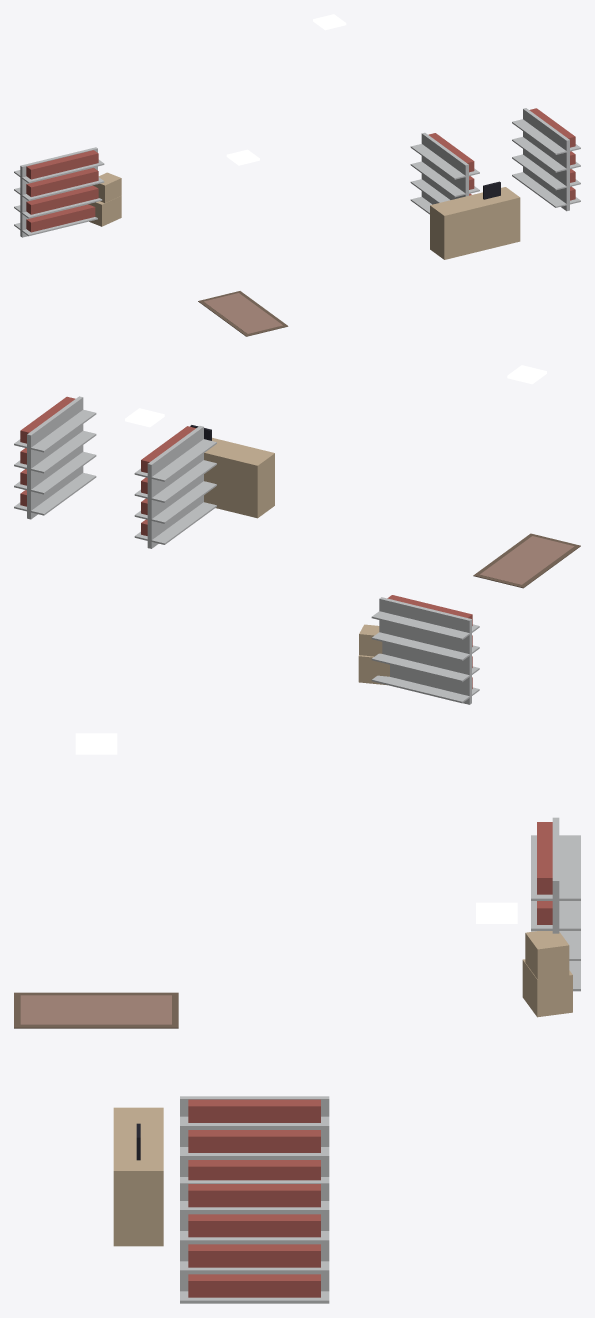
File: fine-s0.glb
3 renders of one model, top to bottom at view 1: azimuth 30°, elevation 25°; view 2: azimuth 150°, elevation 25°; view 3: azimuth 270°, elevation 25°, orthographic. The views are drawn at different scales.
Parts seen in each view (by area): view 1: shelving.000, shop-counter.000, shelf.001, shelf.000, soft-s0, cardboard-box.000; view 2: shelving.000, shelf.001, shelf.000, shop-counter.000, soft-s0, cardboard-box.000, ceiling-lamp.000, ceiling-lamp.001; view 3: shelf.001, shelf.000, shop-counter.000, soft-s0, shelving.000, cardboard-box.000, ceiling-lamp.000, ceiling-lamp.001.
Part boxes in pixels (x1,y1,x2,y2): shelving.000: (14,147,104,237); shop-counter.000: (430,181,520,259); shelf.001: (512,108,580,211); shelf.000: (410,132,479,214); soft-s0: (198,291,288,336); cardboard-box.000: (88,172,121,226); shelving.000: (371,595,479,704); shelf.001: (14,396,96,519); shelf.000: (134,426,216,548); shop-counter.000: (190,425,274,518); soft-s0: (473,533,580,588); cardboard-box.000: (358,624,389,685); ceiling-lamp.000: (507,365,546,384); ceiling-lamp.001: (125,408,164,427); shelf.001: (180,1180,329,1303); shelf.000: (180,1096,329,1180); shop-counter.000: (113,1107,163,1246); soft-s0: (14,992,178,1028); shelving.000: (531,817,580,991); cardboard-box.000: (522,931,572,1017); ceiling-lamp.000: (75,733,117,754); ceiling-lamp.001: (476,902,517,923).
Bounding box in the file's own units: 10.67 × 3.57 × 6.82.
